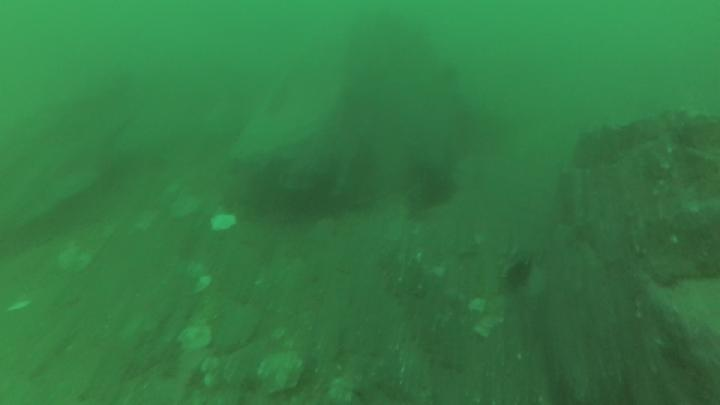echinus: (422, 169, 461, 213), (506, 258, 532, 294)
scallop: (258, 351, 308, 395), (180, 317, 214, 355), (170, 192, 201, 224), (211, 211, 241, 237)
